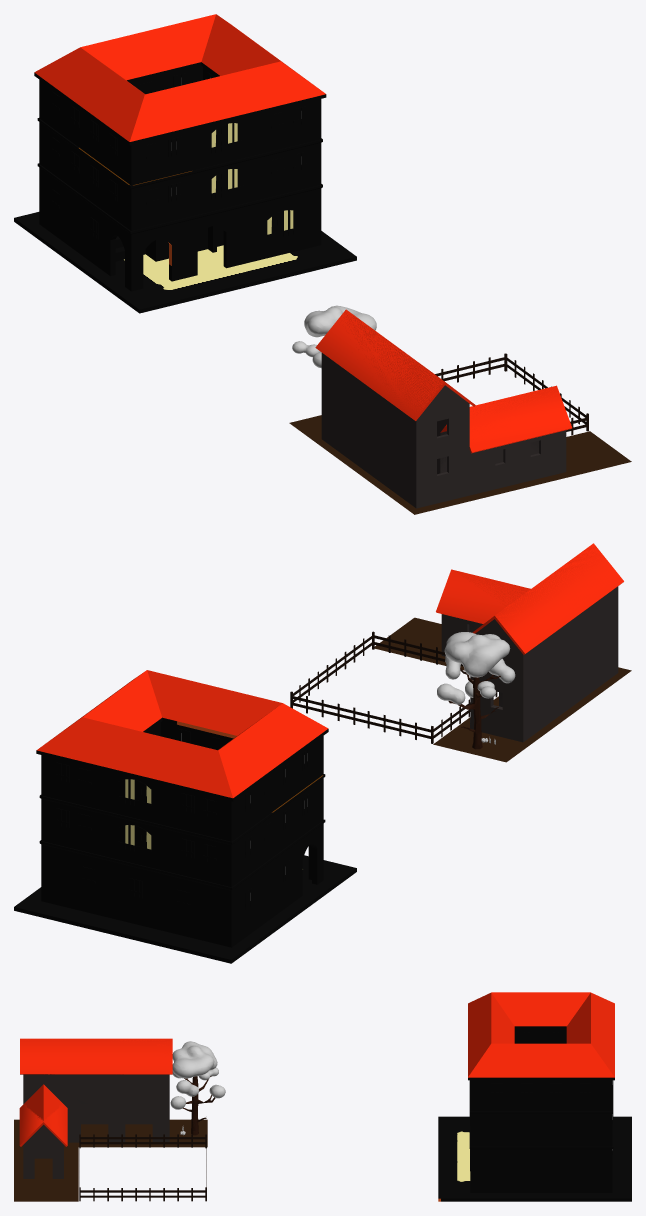
Rendered from myfile.obj.
3 views of the same model, one above another, from view 1: azimuth 30°, elevation 25°; view 2: azimuth 150°, elevation 25°; view 3: azimuth 270°, elevation 25° (orthographic). The views are drawn at different scales.
Parts seen in each view (by area): view 1: Insula_Insula.003, Farm_Cube.008, Farm.001_Plane.007; view 2: Insula_Insula.003, Farm_Cube.008, Farm.001_Plane.007, Tree_Mesh.004; view 3: Insula_Insula.003, Farm_Cube.008, Farm.001_Plane.007, Tree_Mesh.004.
Part boxes in pixels (x1,y1,x2,y2): Insula_Insula.003: (14, 14, 356, 313); Farm_Cube.008: (289, 305, 631, 514); Farm.001_Plane.007: (290, 310, 630, 513); Insula_Insula.003: (14, 670, 356, 963); Farm_Cube.008: (290, 546, 631, 762); Farm.001_Plane.007: (290, 543, 628, 761); Tree_Mesh.004: (439, 632, 515, 749); Insula_Insula.003: (438, 992, 631, 1201); Farm_Cube.008: (14, 1038, 225, 1201); Farm.001_Plane.007: (16, 1038, 206, 1201); Tree_Mesh.004: (173, 1041, 224, 1134).
Size of the model in its own units: 6 by 4.86 by 19.15.
